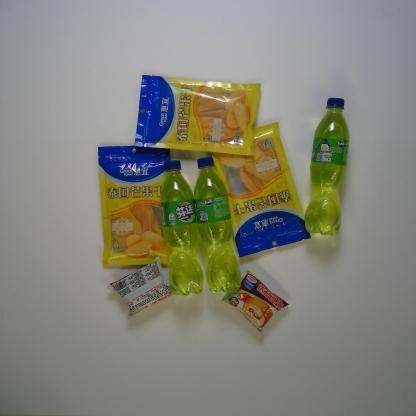Dessert: (221, 268, 290, 334), (106, 256, 175, 318)
Dried Fruit: (209, 121, 312, 259), (132, 73, 263, 159), (96, 145, 177, 268)
Drink: (193, 156, 244, 296), (304, 96, 350, 236), (159, 158, 204, 298)
